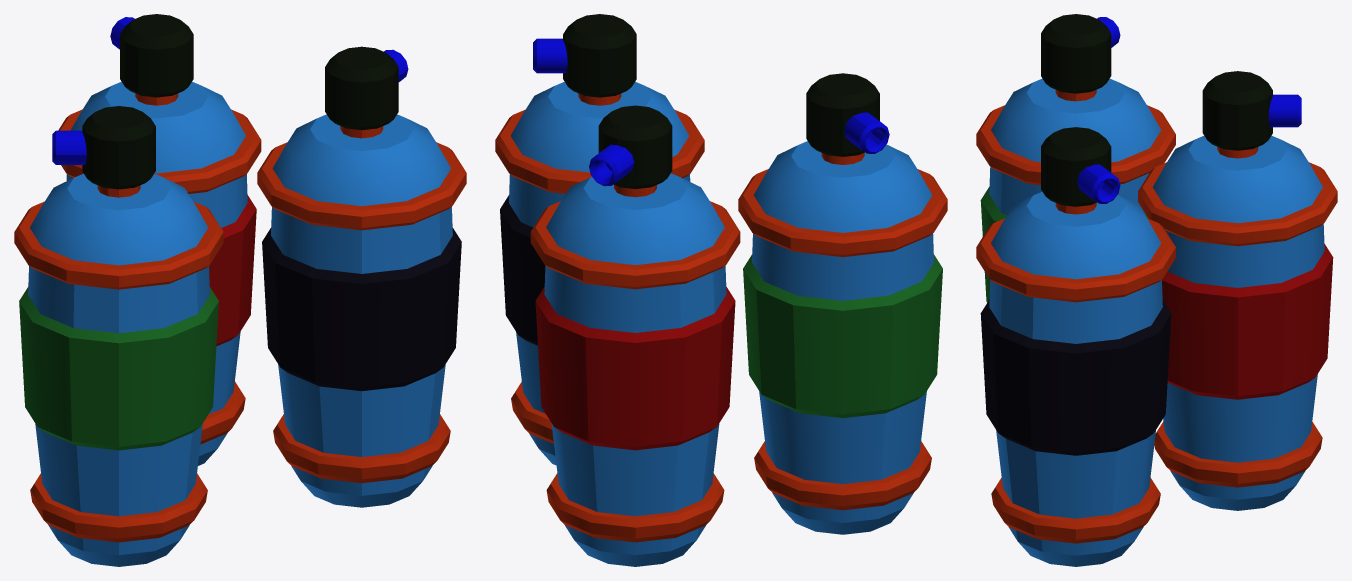
The model's file is Spray cans.FBX.
3 renders of one model, left to right at view 1: azimuth 30°, elevation 25°; view 2: azimuth 150°, elevation 25°; view 3: azimuth 270°, elevation 25°, orthographic. The views are drawn at different scales.
Visible parts, largest first — view 1: Spray cans; view 2: Spray cans; view 3: Spray cans.
Boxes of the visible parts, bbox=[...] form: Spray cans: bbox=[14, 14, 466, 566]; Spray cans: bbox=[495, 14, 947, 566]; Spray cans: bbox=[976, 14, 1337, 566].
Bounding box in the file's own units: 986 × 763 × 948.
